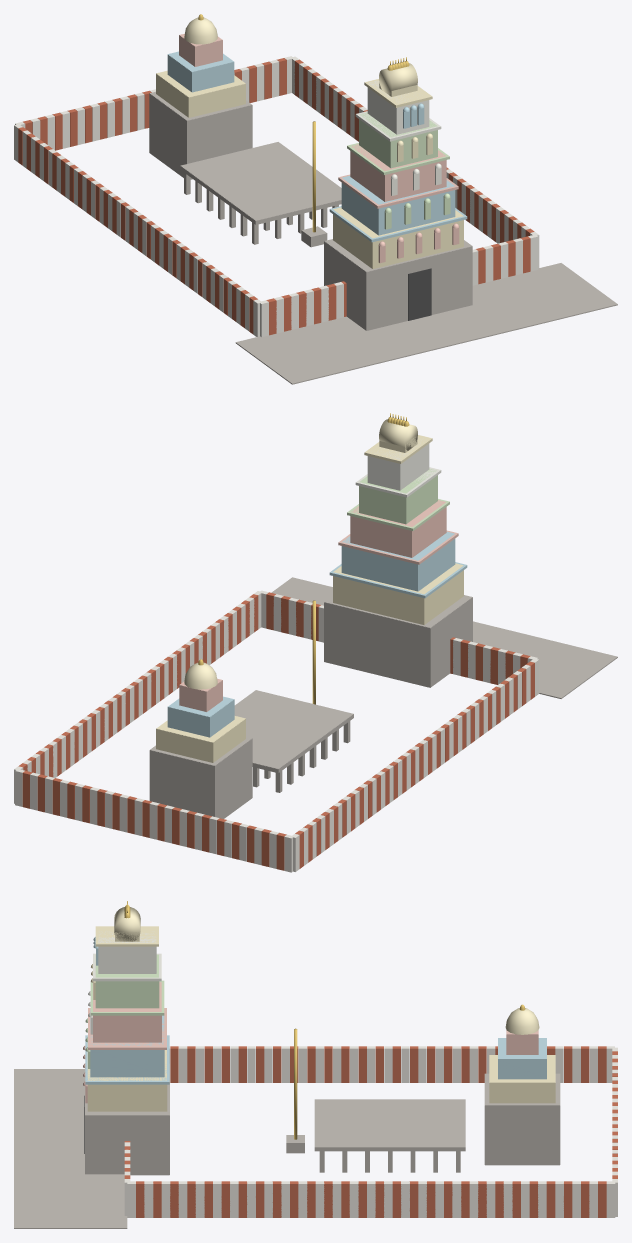
Rendered from temple_ao.glb.
3 renders of one model, top to bottom at view 1: azimuth 30°, elevation 25°; view 2: azimuth 150°, elevation 25°; view 3: azimuth 270°, elevation 25°, orthographic.
Parts seen in each view (by area): view 1: temple; view 2: temple; view 3: temple.
Boxes of the visible parts, x1=… form: temple: x1=14, y1=14, x2=617, y2=384; temple: x1=14, y1=413, x2=617, y2=872; temple: x1=14, y1=901, x2=617, y2=1228.
Bounding box in the file's own units: 39.8 × 28.5 × 63.9.
